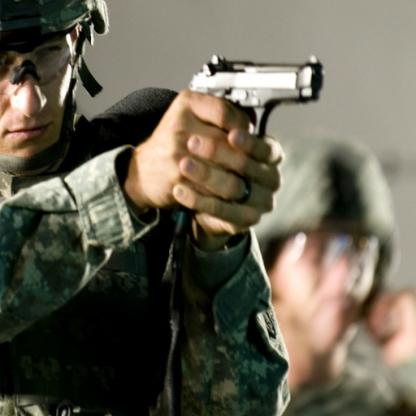gun: (190, 54, 324, 136)
